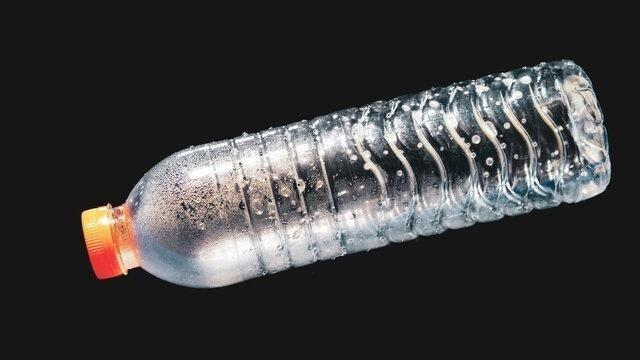bottle-plastic: (76, 50, 629, 291)
